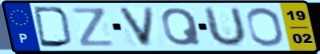D: (31, 5, 75, 49)
O: (245, 6, 287, 48)
Q: (160, 7, 204, 48)
U: (204, 5, 249, 49)
V: (116, 6, 157, 48)
Z: (70, 6, 117, 48)
